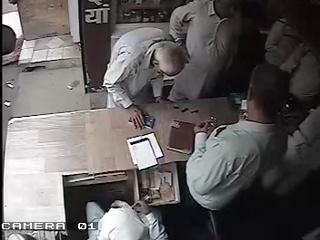Normal: (185, 63, 294, 239), (166, 0, 260, 102), (102, 27, 188, 129), (90, 198, 168, 240)
